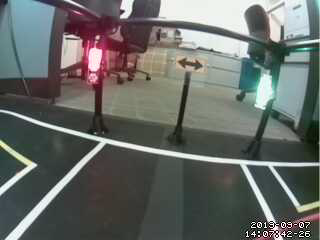Left_Right_sign: (172, 56, 206, 76)
Traffic_light_green: (254, 70, 279, 111)
Traffic_light_red: (83, 47, 103, 86)
